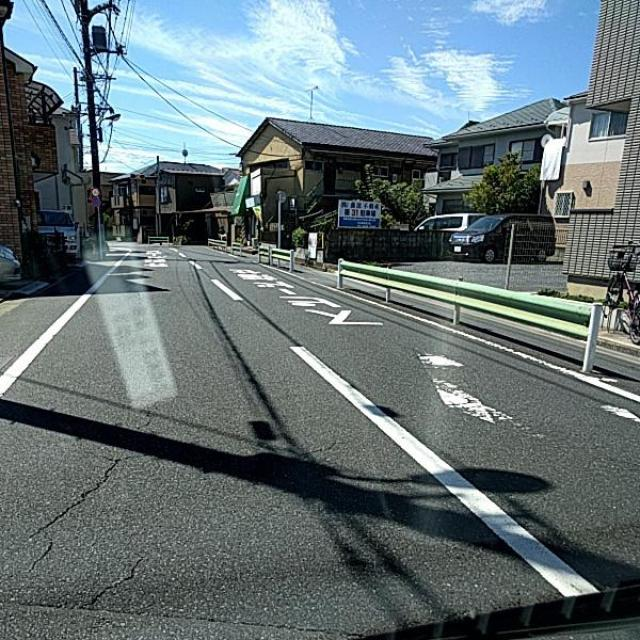Crack: (0, 349, 249, 615)
